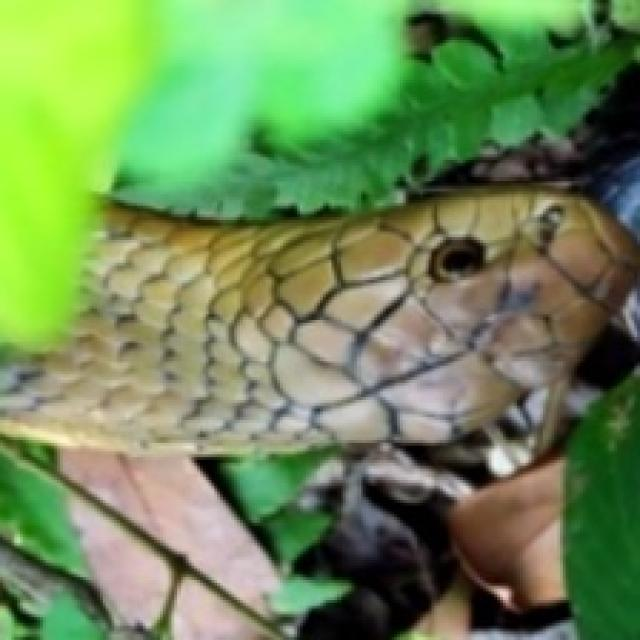king cobra: (6, 188, 634, 449)
